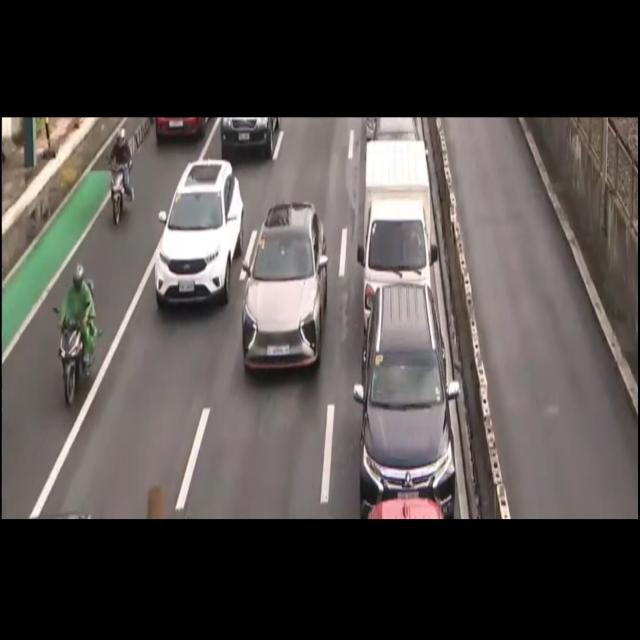Motorcycle: (55, 265, 96, 406), (102, 129, 138, 225)
Pick-up: (357, 132, 438, 329)
SUV: (359, 287, 456, 507), (149, 160, 245, 313), (244, 203, 320, 369)
